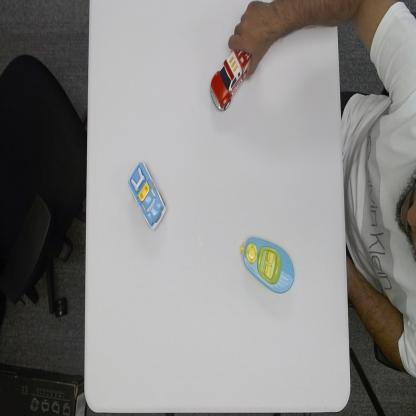Arm: (274, 0, 335, 41)
Boat: (237, 233, 296, 296)
Car: (127, 159, 168, 233)
Firetruck: (208, 48, 253, 114)
Hand: (229, 0, 274, 75)
